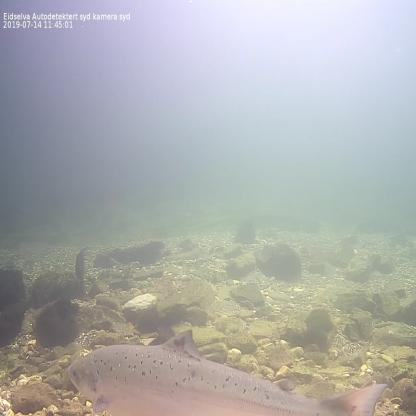salmon: (66, 326, 389, 416)
